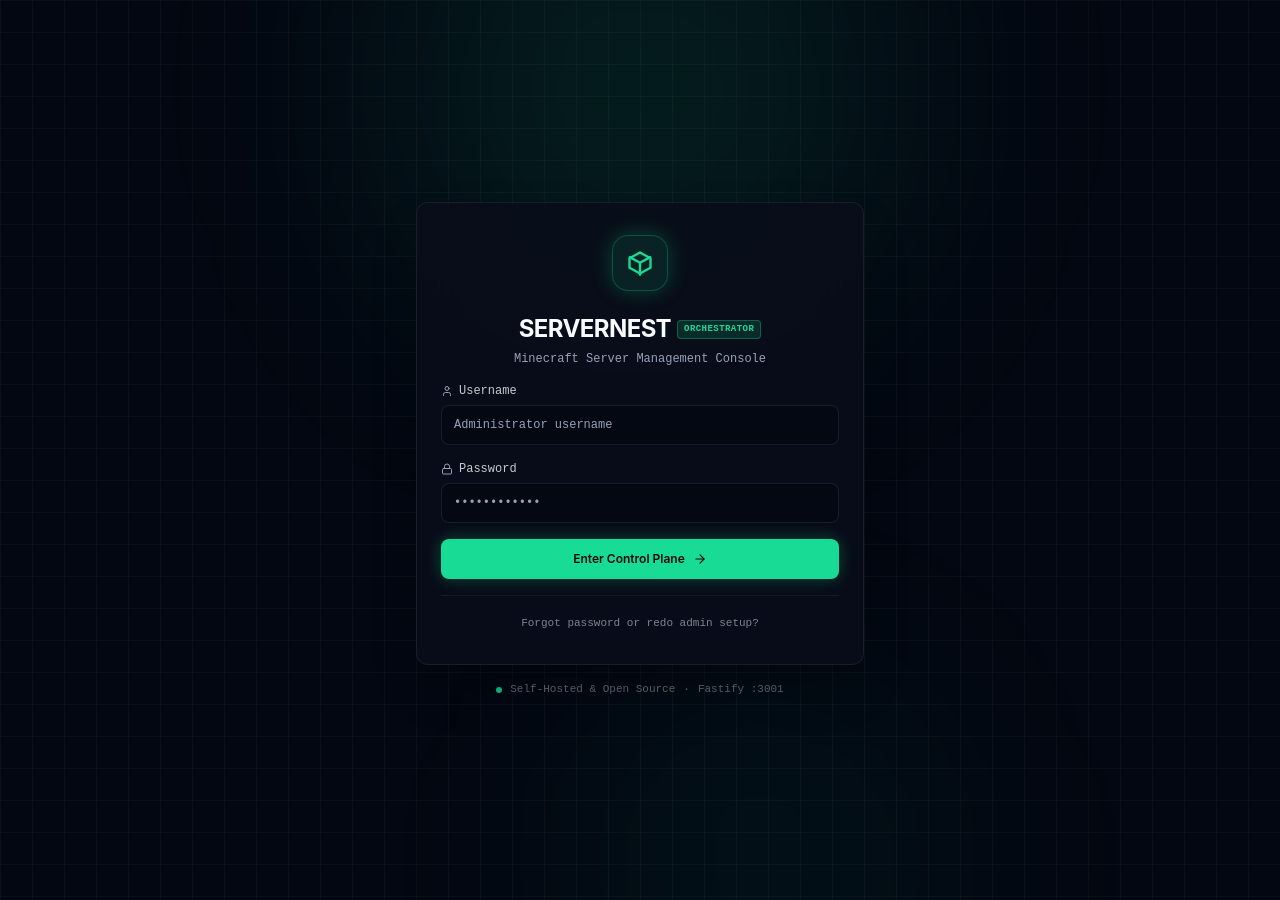
Test case: LoginPage › displays error message on login failure
This screenshot has width=1280, height=900.
Type "admin" into the field with placeholder "Administrator username".
click(640, 425); type("admin")  # box [441, 405, 839, 445]
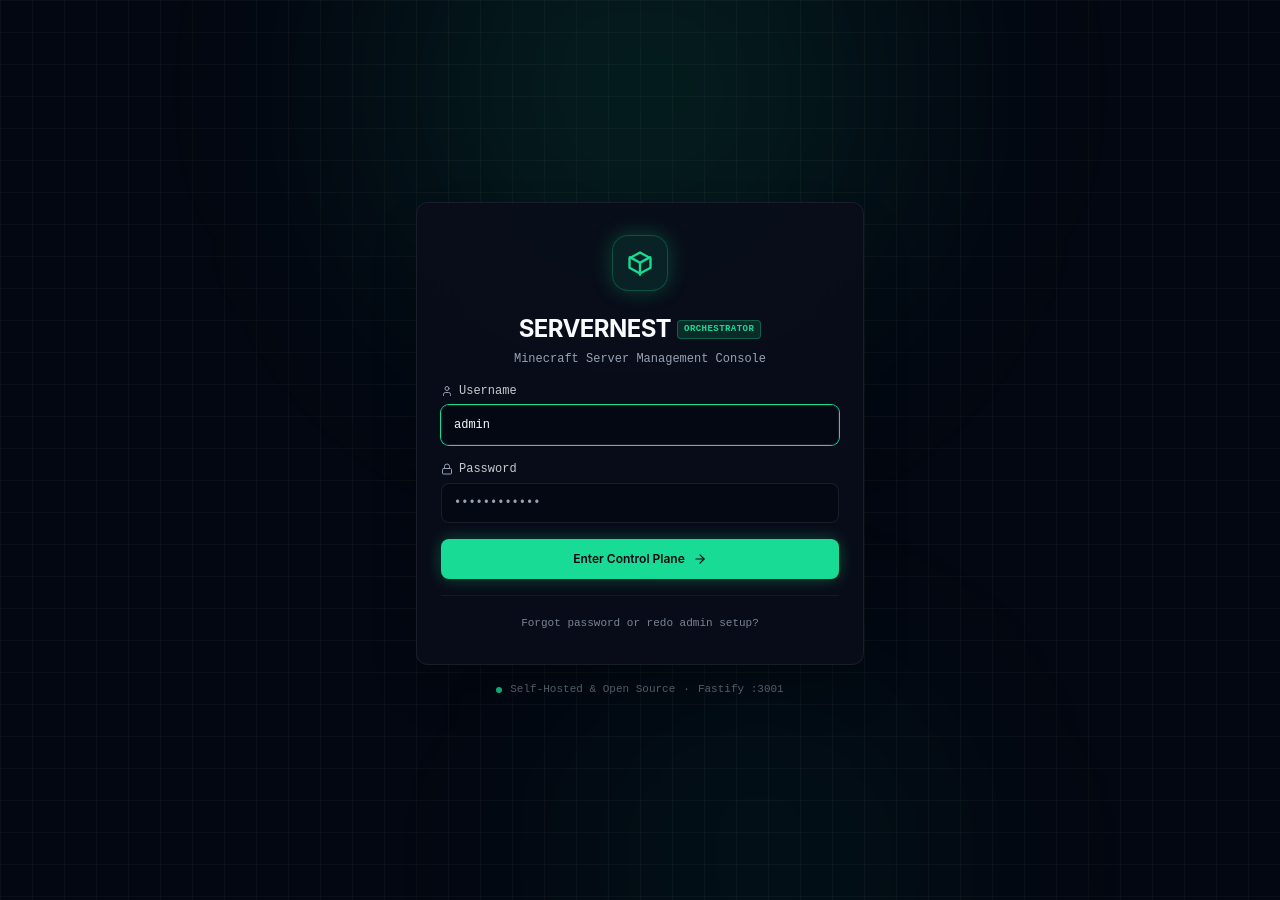
Type "wrong" into the password field with placeholder "••••••••••••".
click(640, 503); type("wrong")  # box [441, 483, 839, 523]
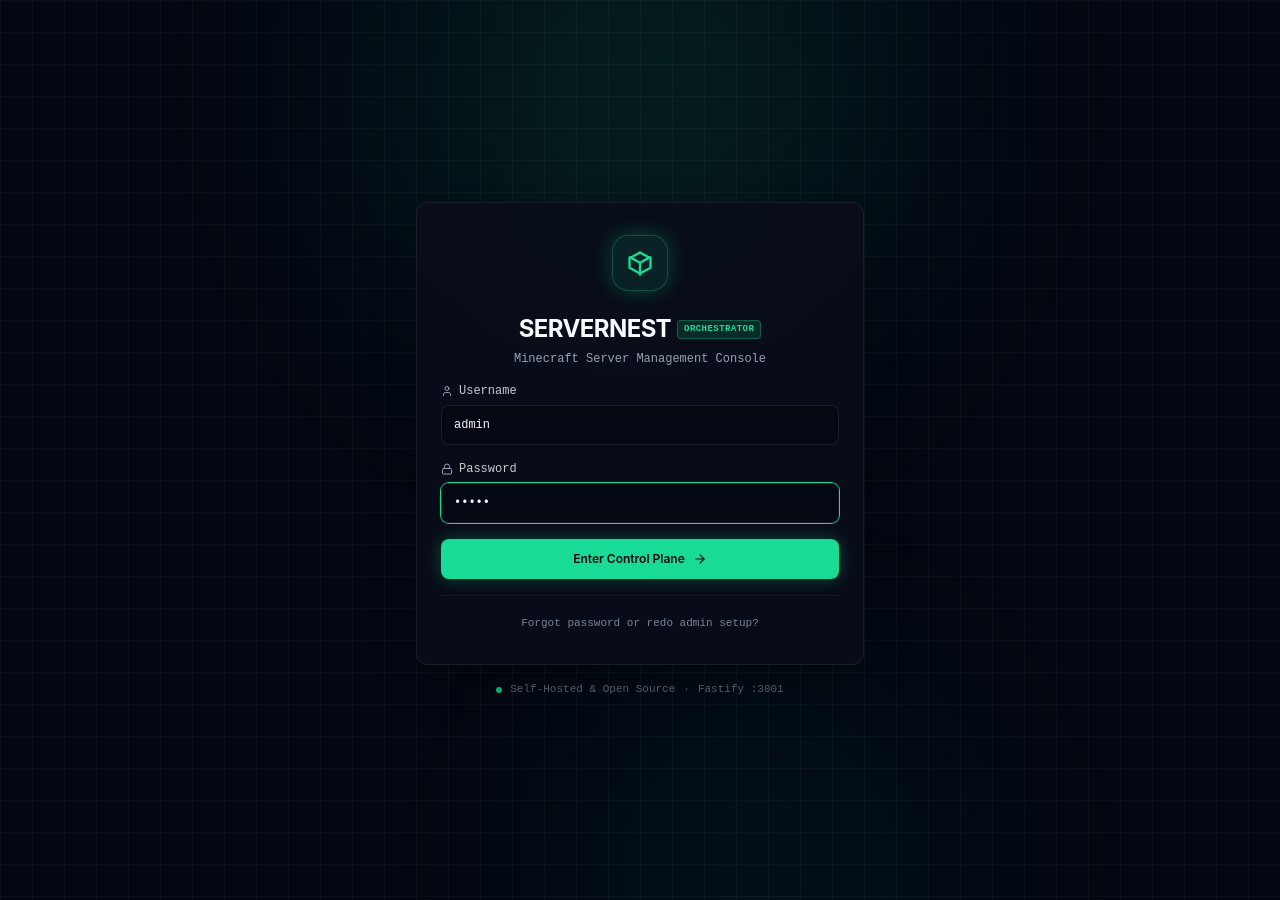
Click the button "Enter Control Plane".
click(640, 559)  # box [441, 539, 839, 579]
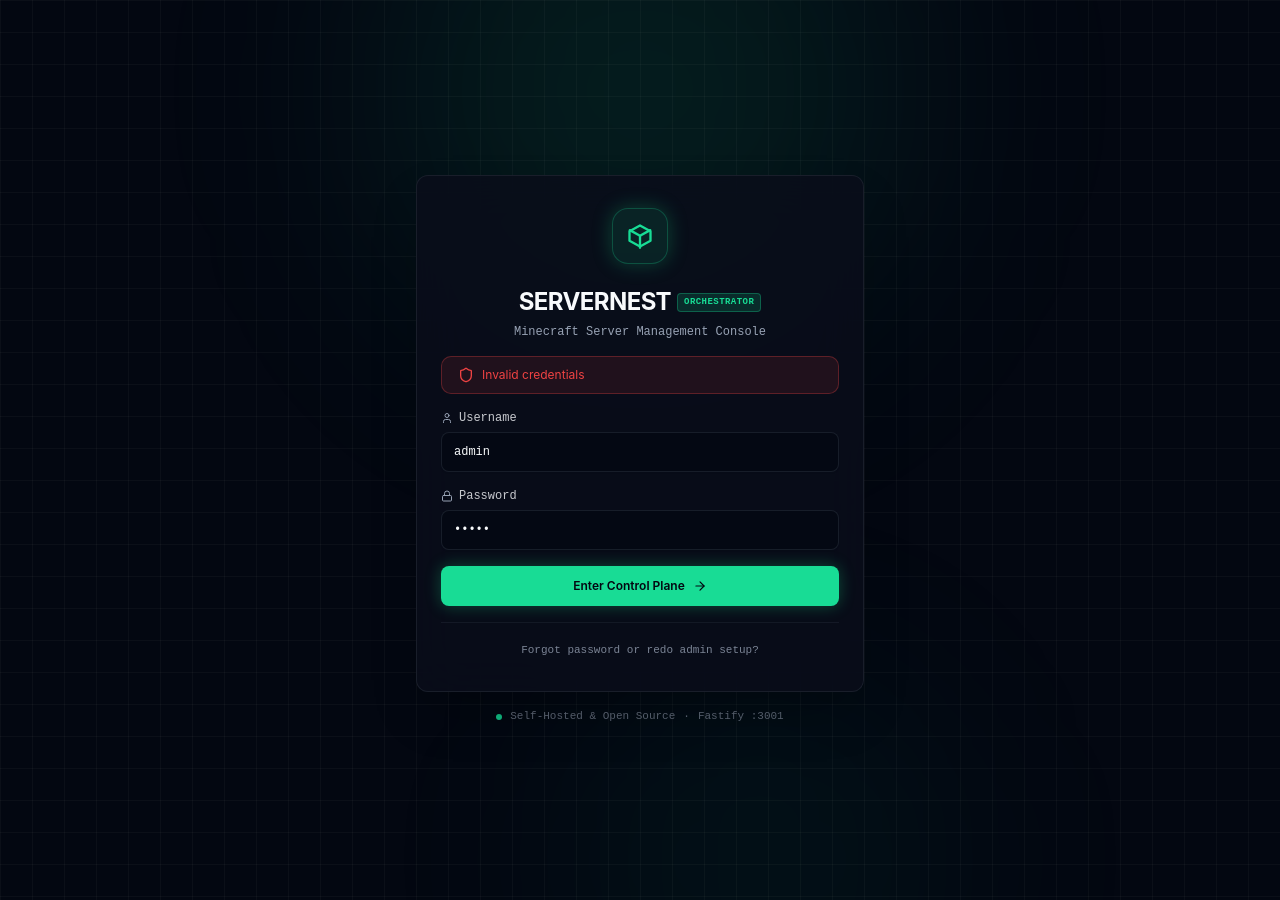
Now the text "Invalid credentials" is shown, box [482, 367, 584, 383]
